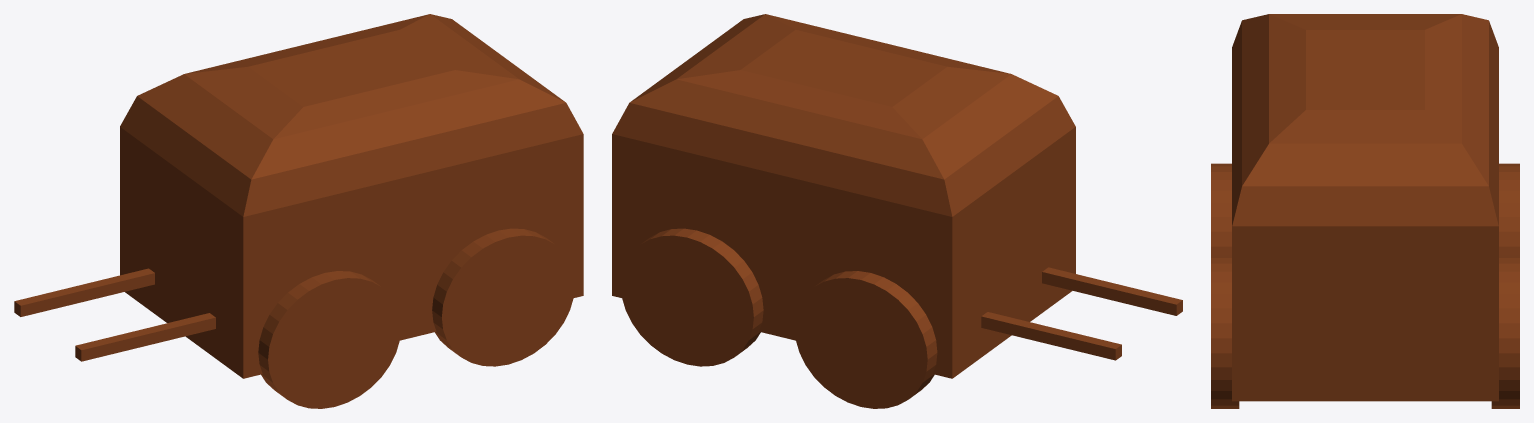
File: telega.fbx
3 views of the same model, side by side, from view 1: azimuth 30°, elevation 25°; view 2: azimuth 150°, elevation 25°; view 3: azimuth 270°, elevation 25° (orthographic). The views are drawn at different scales.
Visible parts, largest first — view 1: Cylinder; view 2: Cylinder; view 3: Cylinder.
Boxes of the visible parts, x1,y1,x2,y2 form: Cylinder: (14, 14, 583, 408); Cylinder: (612, 14, 1182, 408); Cylinder: (1211, 14, 1519, 408).
Size of the model in its own units: 652 by 348 by 340.
